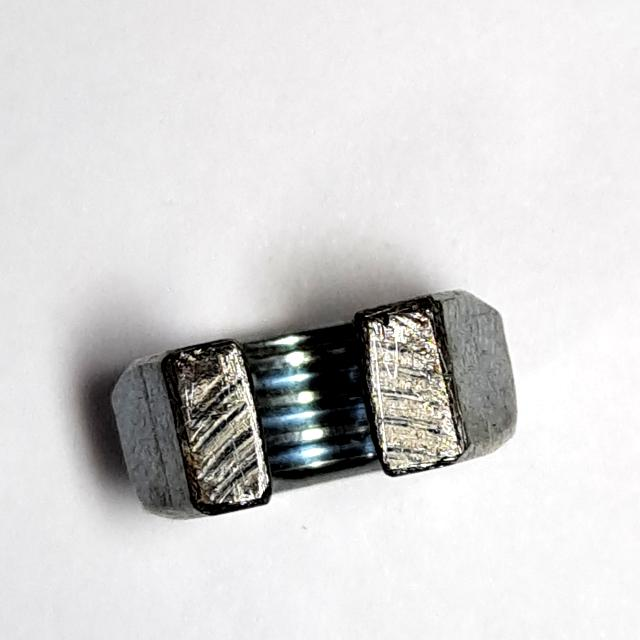Side-Fracture: (100, 278, 536, 534)
